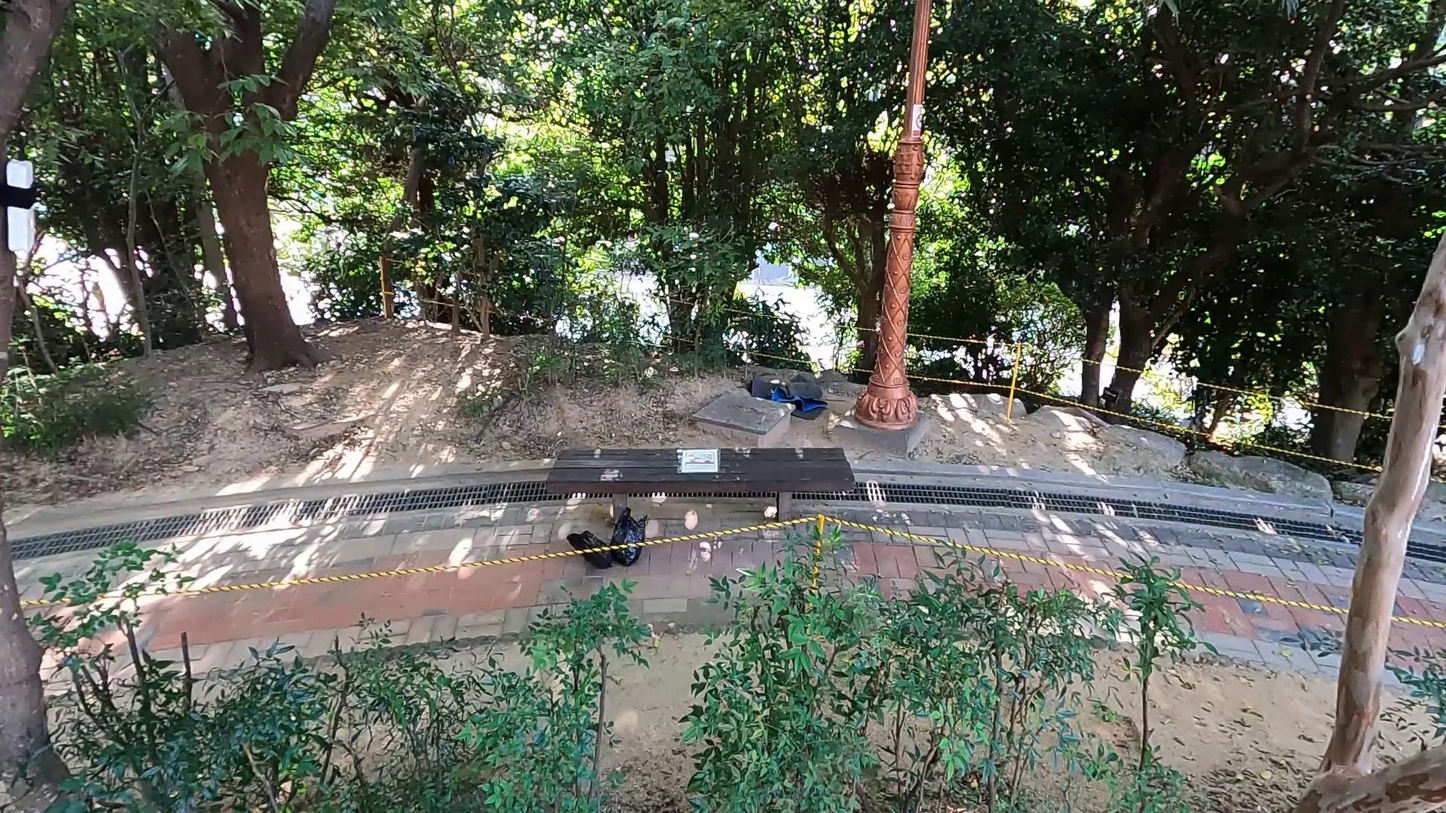trash: (745, 372, 830, 419), (607, 506, 650, 567), (567, 527, 611, 573)
